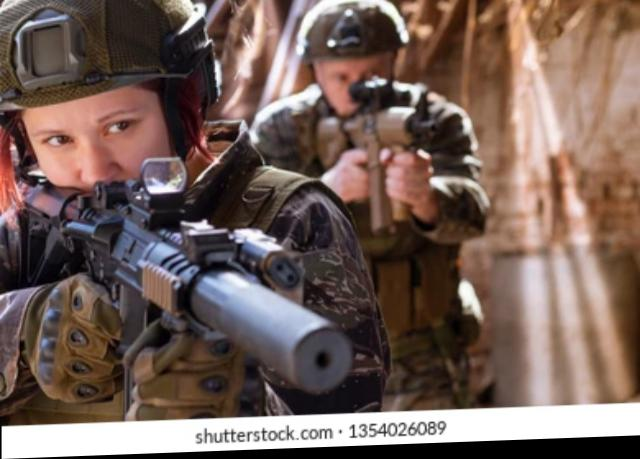other: (2, 0, 330, 414), (281, 6, 471, 405)
